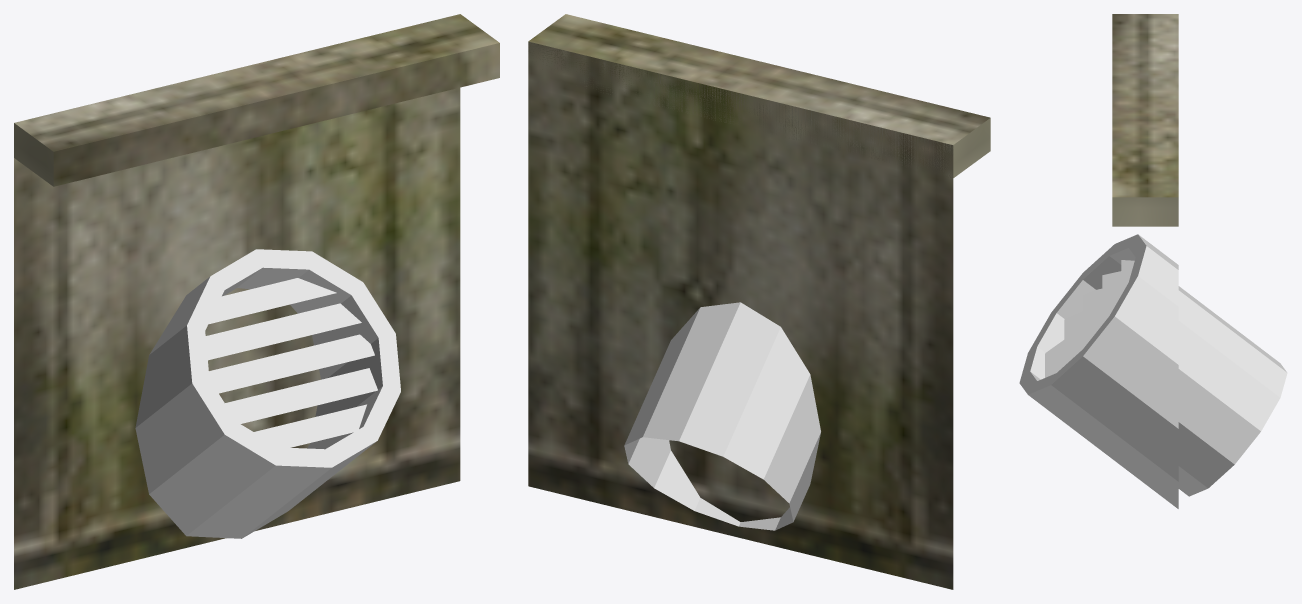
Rendered from esgotoooooooooooooooooooooooooooo.fbx.
3 renders of one model, left to right at view 1: azimuth 30°, elevation 25°; view 2: azimuth 150°, elevation 25°; view 3: azimuth 270°, elevation 25°, orthographic. The views are drawn at different scales.
Visible parts, largest first — view 1: MESH_SEWERPOOL_02; view 2: MESH_SEWERPOOL_02; view 3: MESH_SEWERPOOL_02.
Boxes of the visible parts, bbox=[...] form: MESH_SEWERPOOL_02: bbox=[14, 14, 499, 589]; MESH_SEWERPOOL_02: bbox=[528, 14, 990, 589]; MESH_SEWERPOOL_02: bbox=[1019, 14, 1287, 508].
Size of the model in its own units: 2 by 2 by 1.24.
